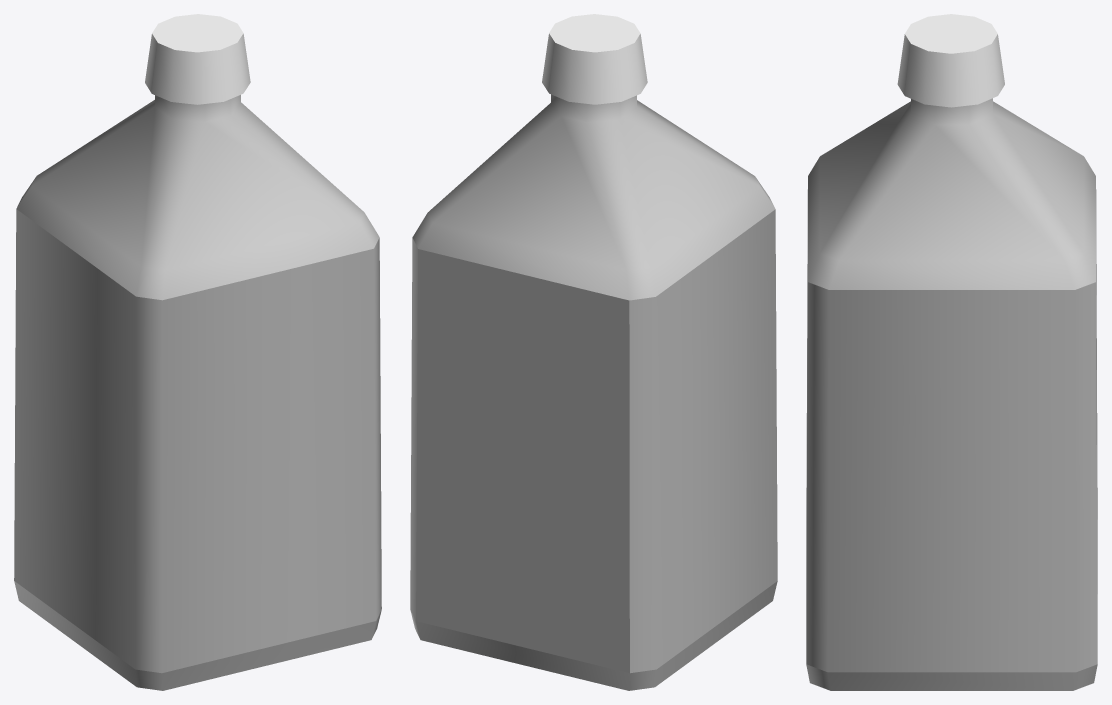
Rendered from SM_Bottle_02.fbx.
3 renders of one model, left to right at view 1: azimuth 30°, elevation 25°; view 2: azimuth 150°, elevation 25°; view 3: azimuth 270°, elevation 25°, orthographic. The views are drawn at different scales.
Parts seen in each view (by area): view 1: SM_Bottle_02; view 2: SM_Bottle_02; view 3: SM_Bottle_02.
Part boxes in pixels (<box>): SM_Bottle_02: <box>14,14,381,690</box>; SM_Bottle_02: <box>410,14,777,690</box>; SM_Bottle_02: <box>806,14,1097,690</box>.
Size of the model in its own units: 10.82 by 24.42 by 10.81.
